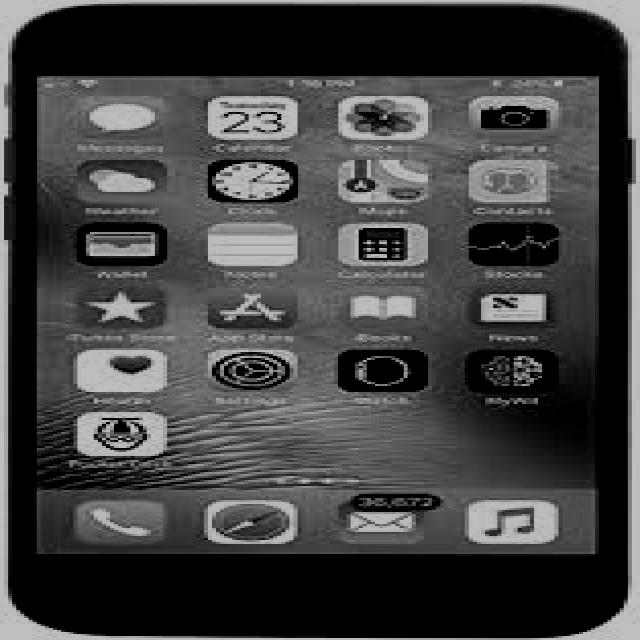fake: (13, 1, 636, 640)
